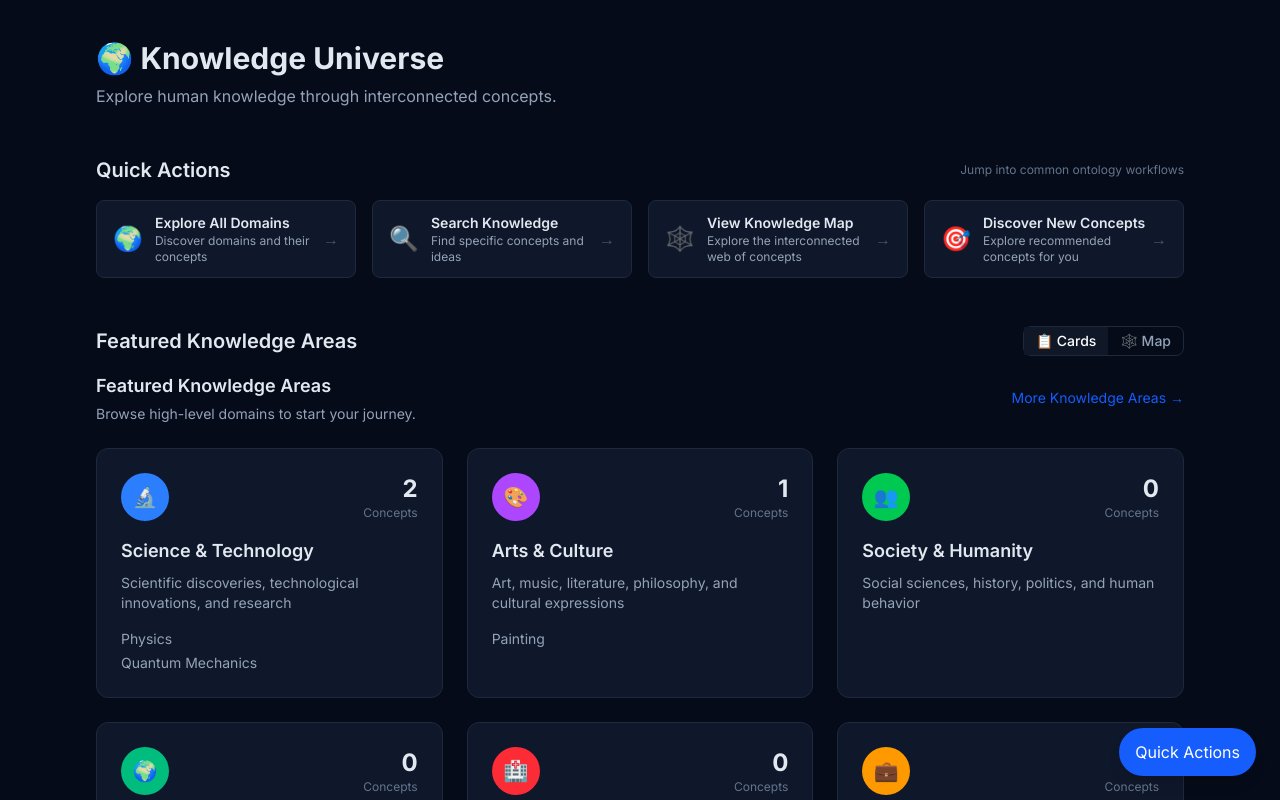
it: OntologyPage › User Interactions › allows switching between view modes
Expected: the button "📋 Cards" is shown, [1024, 327, 1108, 355]
# Switch to map view
Click the button "🕸️ Map" at coordinates (1146, 341), box [1108, 327, 1183, 355]
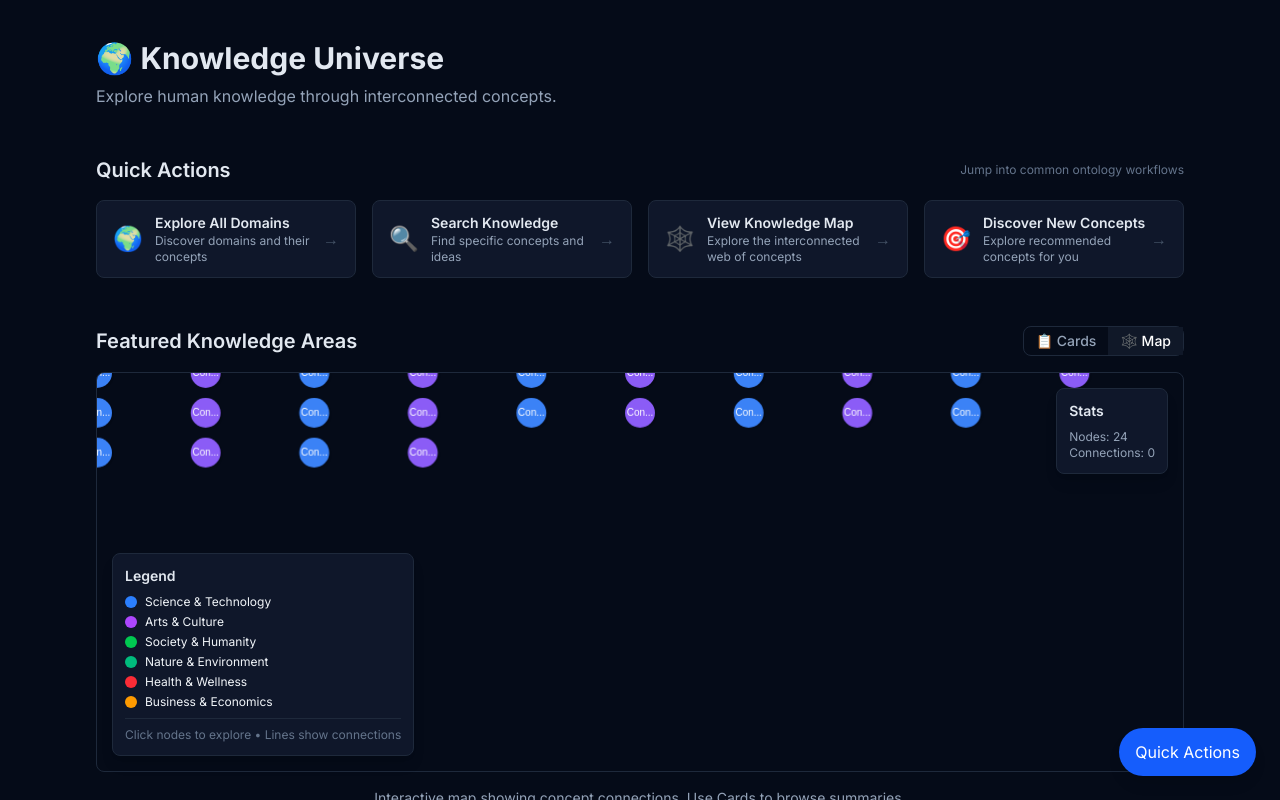
Result: the element with test id "knowledge-map" is shown at [96, 372, 1184, 772]
